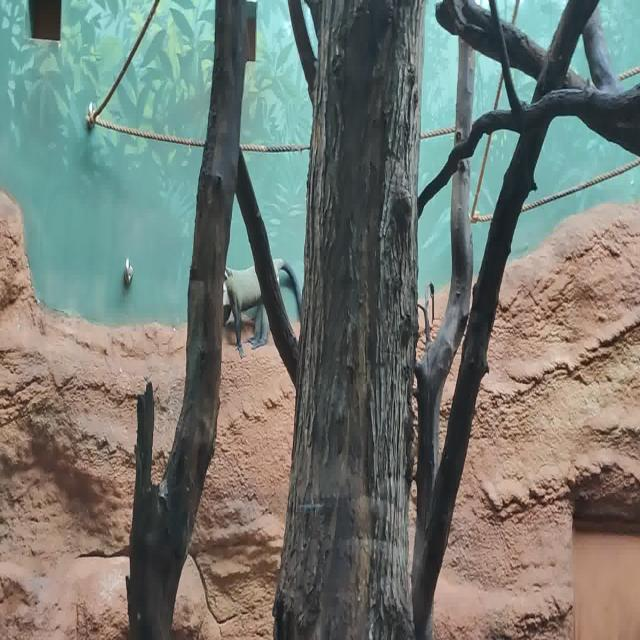monkey: (223, 258, 302, 360)
